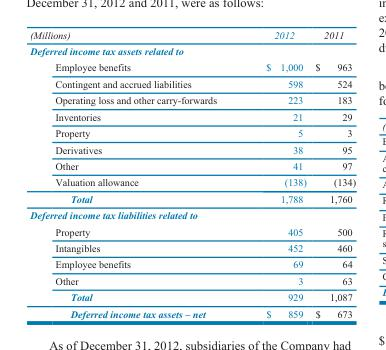table: (29, 28, 355, 318)
table column: (29, 28, 240, 318), (240, 28, 310, 318), (310, 28, 355, 318)
table column header: (29, 28, 355, 42)
table projected row header: (29, 206, 355, 223), (29, 42, 355, 58)
table row: (29, 58, 355, 75), (29, 91, 355, 108), (29, 140, 355, 157), (29, 173, 355, 190), (29, 206, 355, 223), (29, 255, 355, 272), (29, 288, 355, 305), (29, 42, 355, 58), (29, 75, 355, 91), (29, 108, 355, 124), (29, 124, 355, 140), (29, 157, 355, 173), (29, 190, 355, 206), (29, 223, 355, 239), (29, 239, 355, 255), (29, 272, 355, 288), (29, 28, 355, 42), (29, 305, 355, 318)
